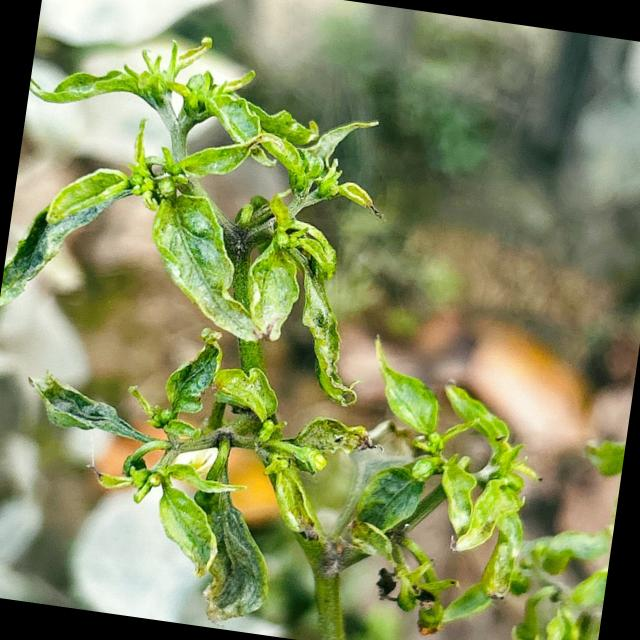Chilli_Leaf_Curl: (0, 12, 601, 640), (0, 11, 407, 408), (329, 332, 558, 640), (136, 184, 282, 344), (361, 332, 450, 438)
